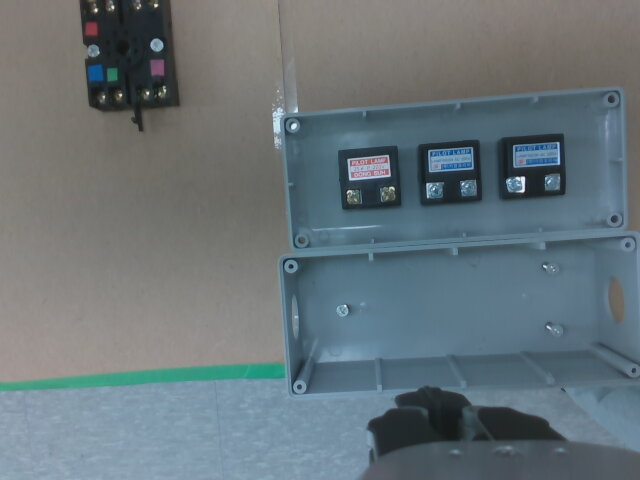L1(1): (346, 190, 362, 204)
L1(2): (379, 187, 396, 202)
L2(1): (426, 183, 444, 198)
L2(2): (460, 182, 477, 195)
L3(1): (508, 177, 525, 192)
L3(2): (545, 176, 561, 189)
